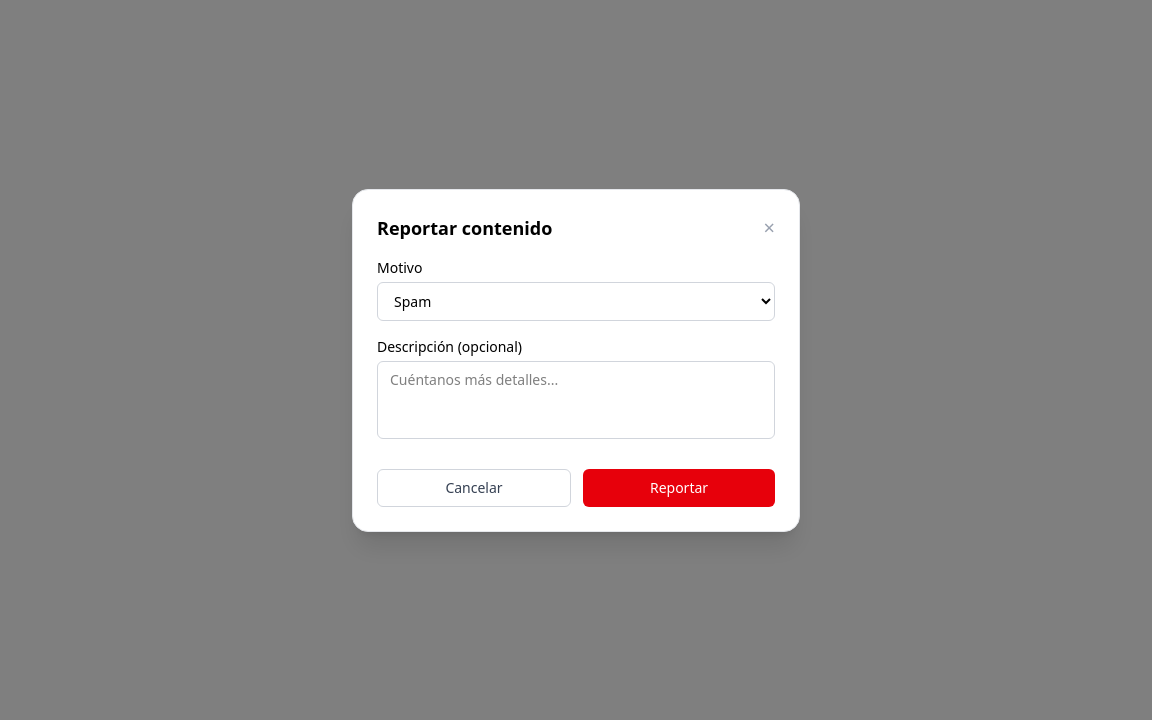
Test case: ReportarModal › should submit report and show success
Step 1. Select "Acoso" in the dropdown → x=576, y=301, box [377,282,775,320]
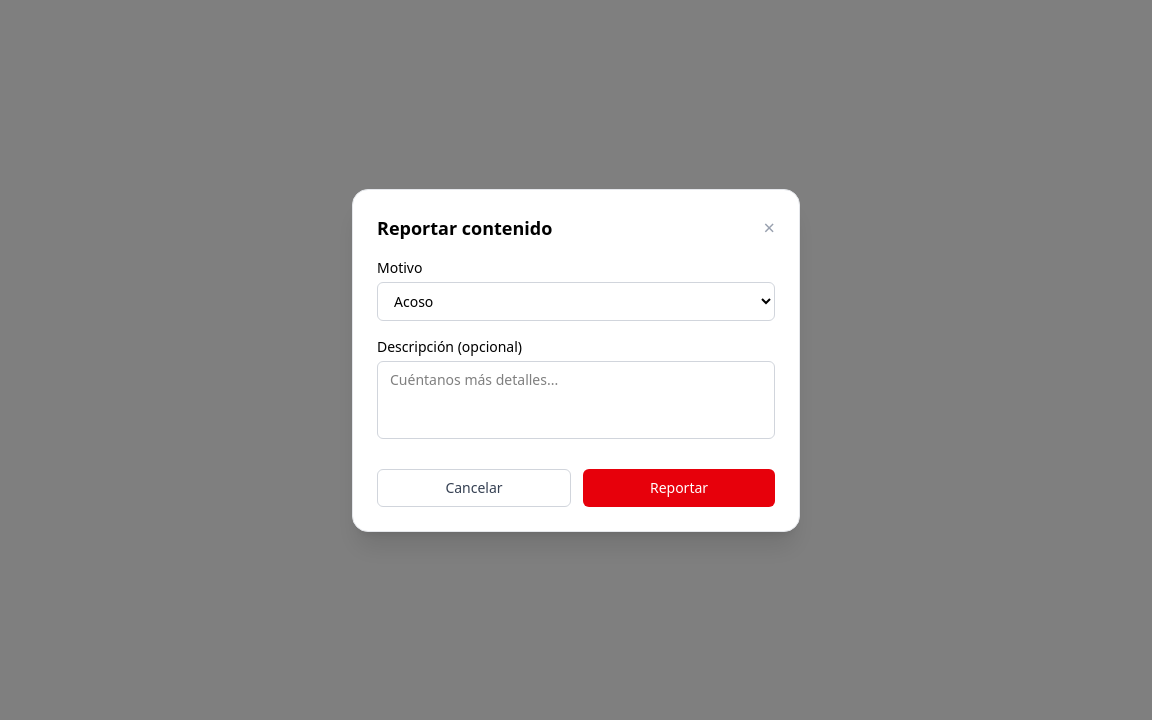
Step 2. Click the button "Reportar" → x=679, y=488, box [583,468,775,506]
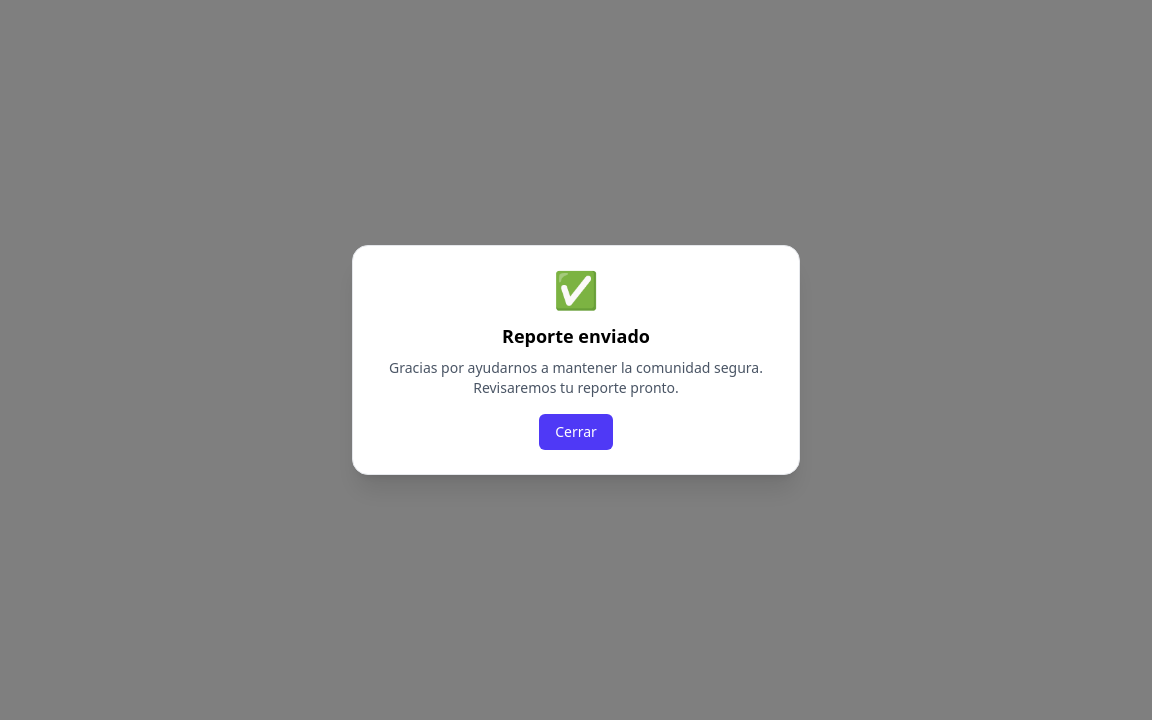
Result: the heading "Reporte enviado" is shown at [502,324,650,348]
